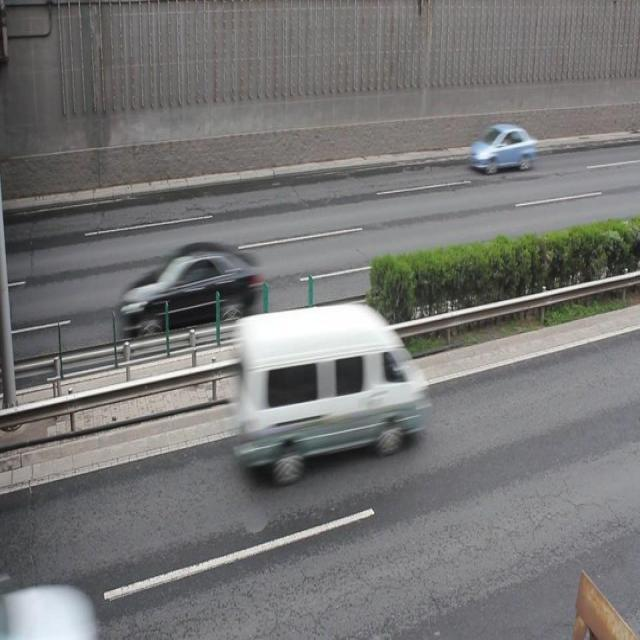car: (119, 241, 258, 327), (468, 122, 534, 174)
truck: (230, 302, 423, 477)
